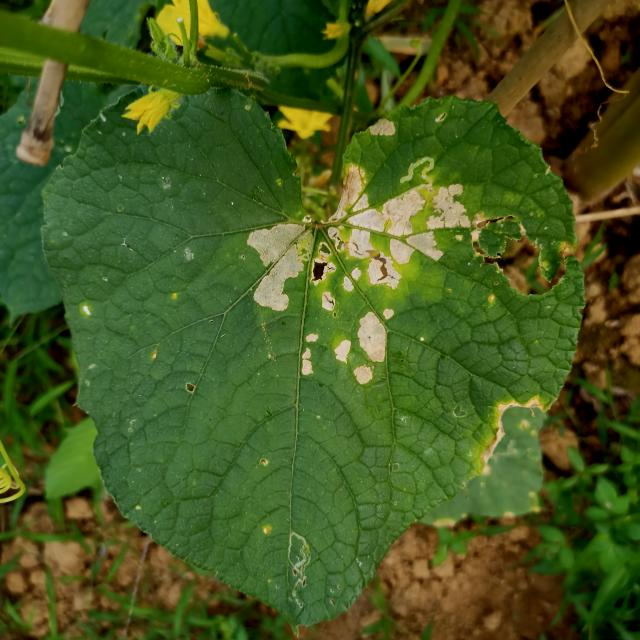disease_cucumber: (238, 165, 476, 392)
